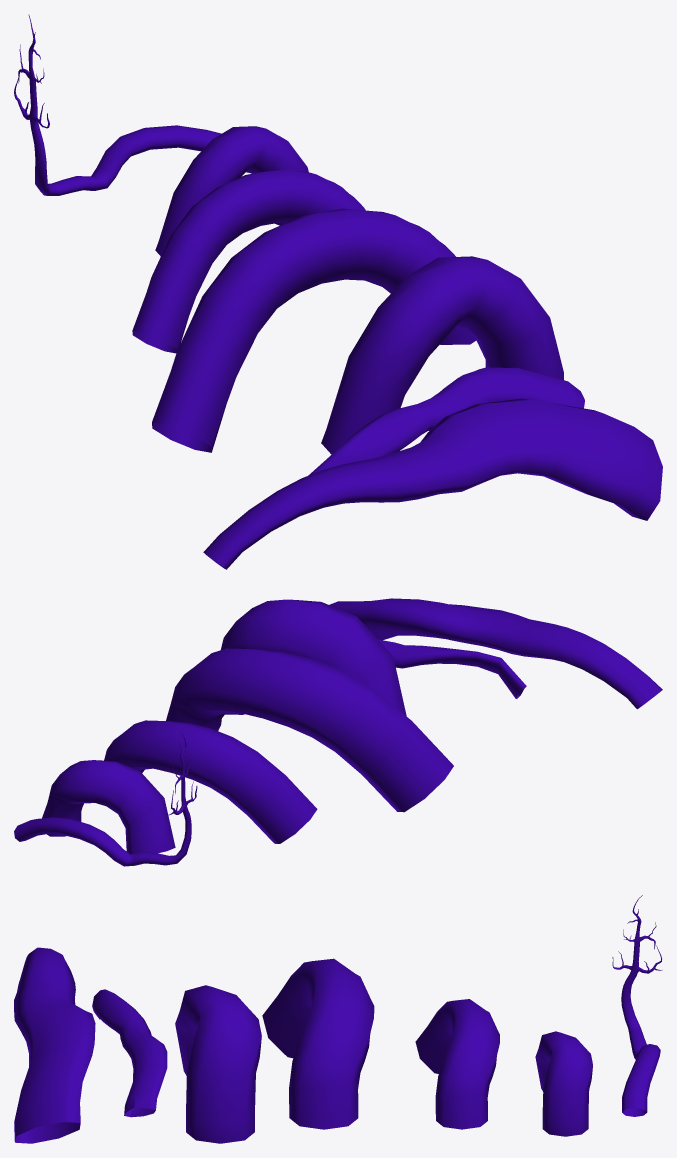
File: Roots_Texturing.fbx
The picture shows the model from 3 angles, top to bottom: view 1: azimuth 30°, elevation 25°; view 2: azimuth 150°, elevation 25°; view 3: azimuth 270°, elevation 25°; orthographic projection. The views are drawn at different scales.
Parts seen in each view (by area): view 1: Root_01, Root_04, Root_03, Root_05, Root_02, Root_06, Root_Climb_01; view 2: Root_04, Root_01, Root_05, Root_03, Root_06, Root_Climb_01, Root_02; view 3: Root_04, Root_01, Root_03, Root_05, Root_06, Root_02, Root_Climb_01.
Boxes of the visible parts, x1=… form: Root_01: x1=203, y1=398, x2=662, y2=569; Root_04: x1=152, y1=208, x2=476, y2=452; Root_03: x1=321, y1=256, x2=563, y2=454; Root_05: x1=132, y1=169, x2=365, y2=353; Root_02: x1=308, y1=367, x2=584, y2=475; Root_06: x1=155, y1=126, x2=308, y2=256; Root_Climb_01: x1=14, y1=14, x2=221, y2=195; Root_04: x1=166, y1=648, x2=453, y2=812; Root_01: x1=329, y1=598, x2=662, y2=709; Root_05: x1=104, y1=720, x2=317, y2=843; Root_03: x1=221, y1=599, x2=406, y2=715; Root_06: x1=42, y1=760, x2=175, y2=854; Root_Climb_01: x1=14, y1=733, x2=197, y2=866; Root_02: x1=378, y1=639, x2=526, y2=698; Root_04: x1=262, y1=958, x2=374, y2=1129; Root_01: x1=14, y1=947, x2=95, y2=1143; Root_03: x1=175, y1=985, x2=261, y2=1143; Root_05: x1=415, y1=999, x2=499, y2=1129; Root_06: x1=535, y1=1031, x2=592, y2=1136; Root_02: x1=92, y1=989, x2=167, y2=1117; Root_Climb_01: x1=612, y1=895, x2=662, y2=1116.
Bounding box in the file's own units: 1153 × 602 × 1881.
